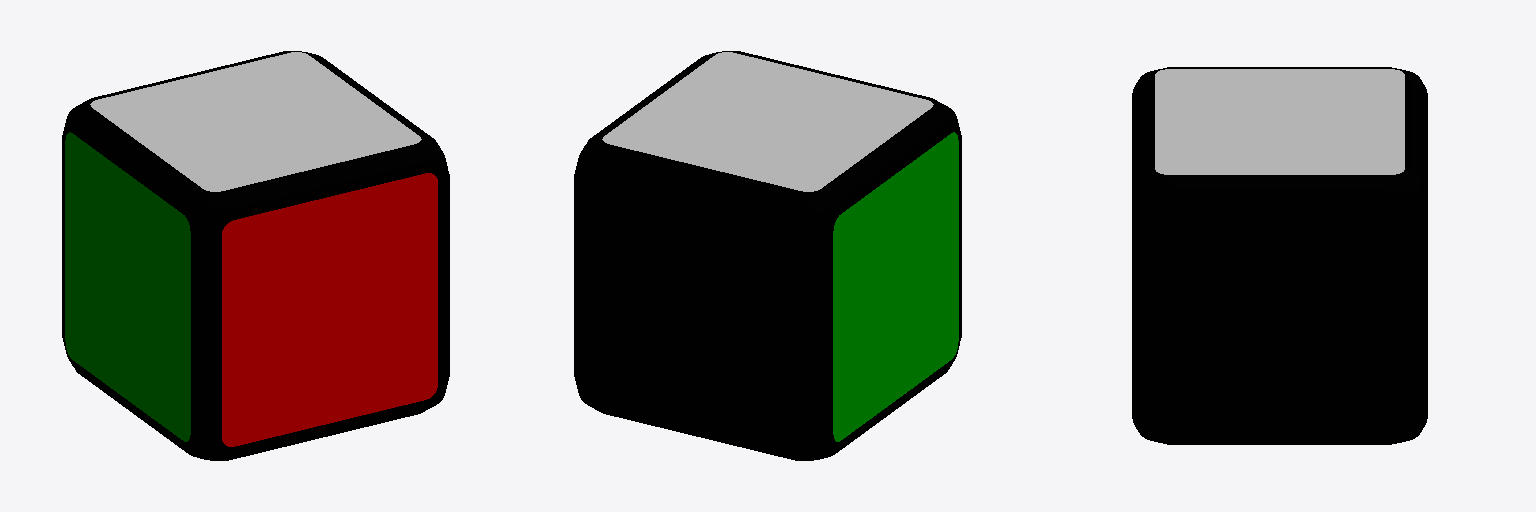
Rendered from corner_rgw.obj.
3 renders of one model, left to right at view 1: azimuth 30°, elevation 25°; view 2: azimuth 150°, elevation 25°; view 3: azimuth 270°, elevation 25°, orthographic.
Parts seen in each view (by area): view 1: Cube; view 2: Cube; view 3: Cube.
Part boxes in pixels (bbox=[...]): Cube: bbox=[62, 51, 449, 460]; Cube: bbox=[574, 51, 961, 460]; Cube: bbox=[1132, 67, 1427, 444].
Bounding box in the file's own units: 2 × 2 × 2.